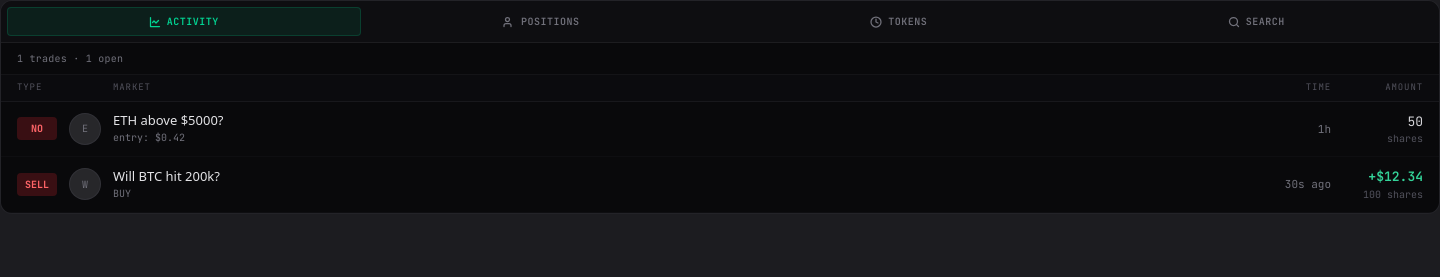
Test: TradeFeed › switching to Search tab shows search input + empty hint
Click the button "Search" at (1256, 22), box [1080,7,1433,36]
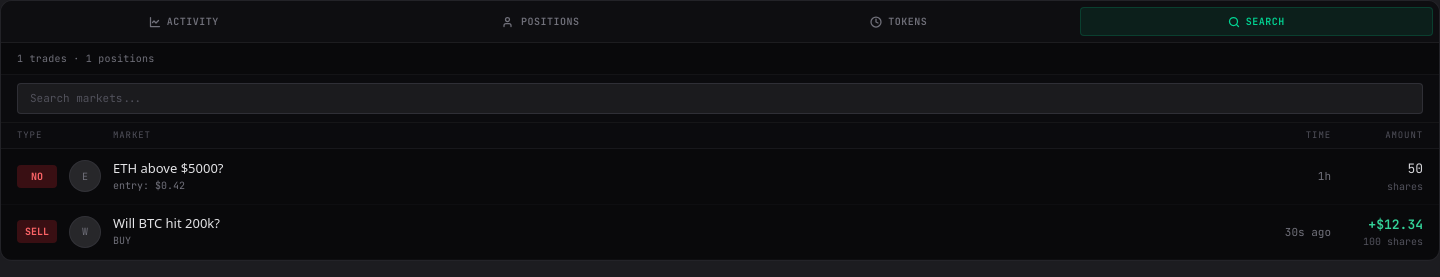
Expected: the field with placeholder "Search markets..." is shown, [17,83,1423,114]
